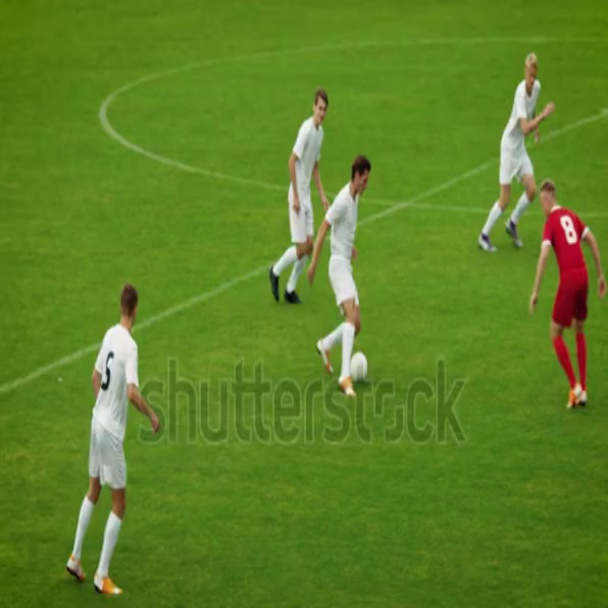ball: (352, 349, 368, 384)
